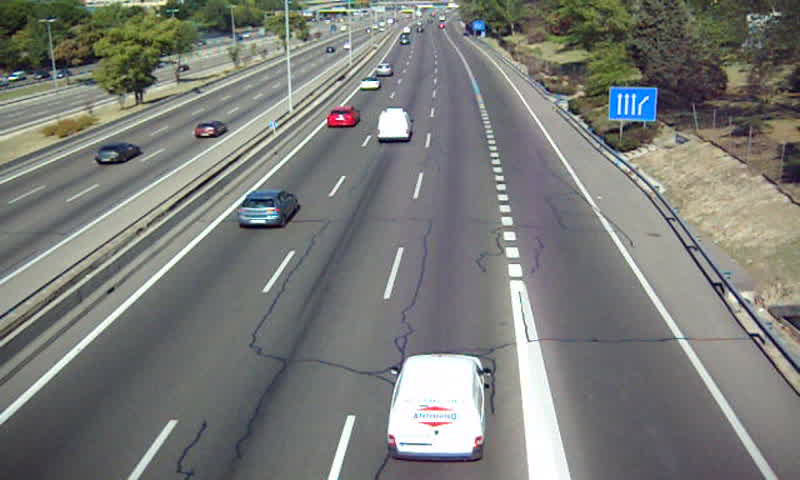car: (236, 189, 298, 227), (327, 106, 359, 129), (358, 77, 380, 90), (376, 63, 392, 77)
van: (387, 354, 485, 460), (377, 108, 411, 140)
